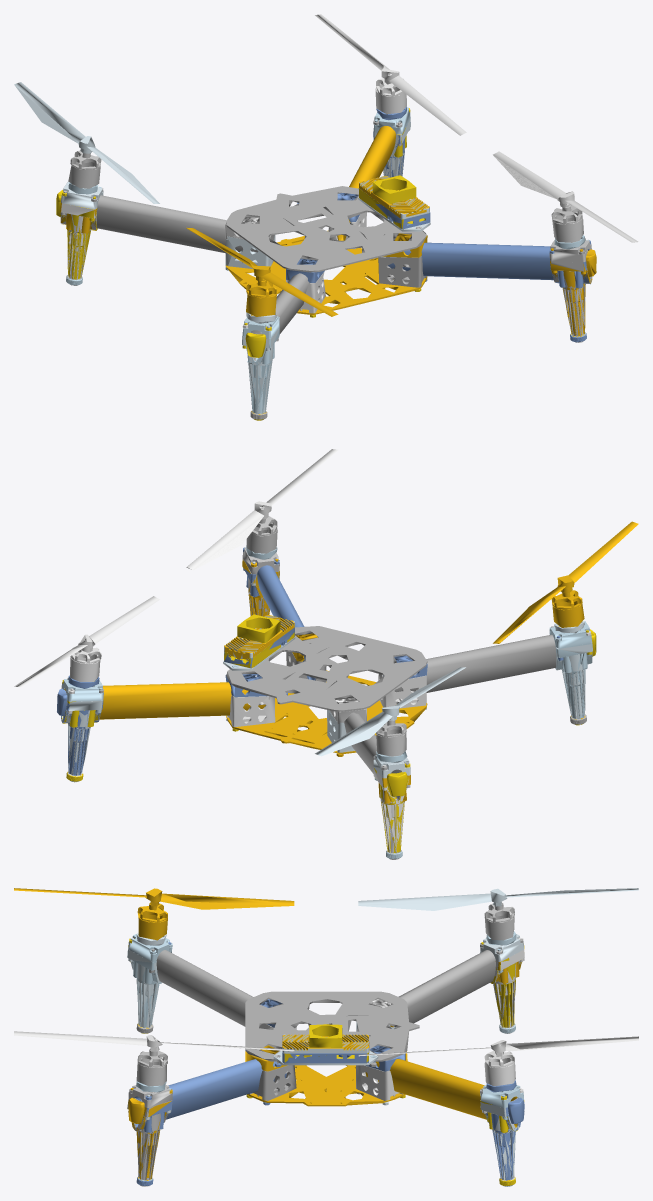
File: quad-f450.glb
The picture shows the model from 3 angles, top to bottom: view 1: azimuth 30°, elevation 25°; view 2: azimuth 150°, elevation 25°; view 3: azimuth 270°, elevation 25°; orthographic projection.
Visible parts, largest first — view 1: 450_NEW_asm_2023_1_3.003, 450_NEW_asm_2023_1_3.004, 450_NEW_asm_2023_1_3.007, 450_NEW_asm_2023_1_3.006, 450_NEW_asm_2023_1_3.005, 450_NEW_asm_2023_1_3, 450_NEW_asm_2023_1_3.002, 450_NEW_asm_2023_1_3.001; view 2: 450_NEW_asm_2023_1_3.003, 450_NEW_asm_2023_1_3.004, 450_NEW_asm_2023_1_3.006, 450_NEW_asm_2023_1_3.005, 450_NEW_asm_2023_1_3.007, 450_NEW_asm_2023_1_3.002, 450_NEW_asm_2023_1_3.001, 450_NEW_asm_2023_1_3; view 3: 450_NEW_asm_2023_1_3.003, 450_NEW_asm_2023_1_3.004, 450_NEW_asm_2023_1_3.007, 450_NEW_asm_2023_1_3.005, 450_NEW_asm_2023_1_3.006, 450_NEW_asm_2023_1_3, 450_NEW_asm_2023_1_3.001, 450_NEW_asm_2023_1_3.002.
Boxes of the visible parts, <box> form: 450_NEW_asm_2023_1_3.003: <box>67,120,584,419</box>; 450_NEW_asm_2023_1_3.004: <box>60,126,596,414</box>; 450_NEW_asm_2023_1_3.007: <box>69,106,590,342</box>; 450_NEW_asm_2023_1_3.006: <box>60,14,638,342</box>; 450_NEW_asm_2023_1_3.005: <box>14,82,588,413</box>; 450_NEW_asm_2023_1_3: <box>60,122,592,414</box>; 450_NEW_asm_2023_1_3.002: <box>56,108,571,420</box>; 450_NEW_asm_2023_1_3.001: <box>66,107,585,413</box>; 450_NEW_asm_2023_1_3.003: <box>99,626,586,853</box>; 450_NEW_asm_2023_1_3.004: <box>63,521,638,804</box>; 450_NEW_asm_2023_1_3.006: <box>14,449,590,853</box>; 450_NEW_asm_2023_1_3.005: <box>61,547,592,778</box>; 450_NEW_asm_2023_1_3.007: <box>57,547,563,851</box>; 450_NEW_asm_2023_1_3.002: <box>62,614,596,853</box>; 450_NEW_asm_2023_1_3.001: <box>61,545,592,858</box>; 450_NEW_asm_2023_1_3: <box>65,516,585,859</box>; 450_NEW_asm_2023_1_3.003: <box>129,938,523,1100</box>; 450_NEW_asm_2023_1_3.004: <box>14,888,524,1180</box>; 450_NEW_asm_2023_1_3.007: <box>127,942,524,1185</box>; 450_NEW_asm_2023_1_3.005: <box>128,888,638,1180</box>; 450_NEW_asm_2023_1_3.006: <box>14,937,638,1186</box>; 450_NEW_asm_2023_1_3: <box>127,902,517,1180</box>; 450_NEW_asm_2023_1_3.001: <box>127,931,523,1186</box>; 450_NEW_asm_2023_1_3.002: <box>128,938,524,1185</box>.
Bounding box in the file's own units: 0.3598 × 0.1474 × 0.5651.
